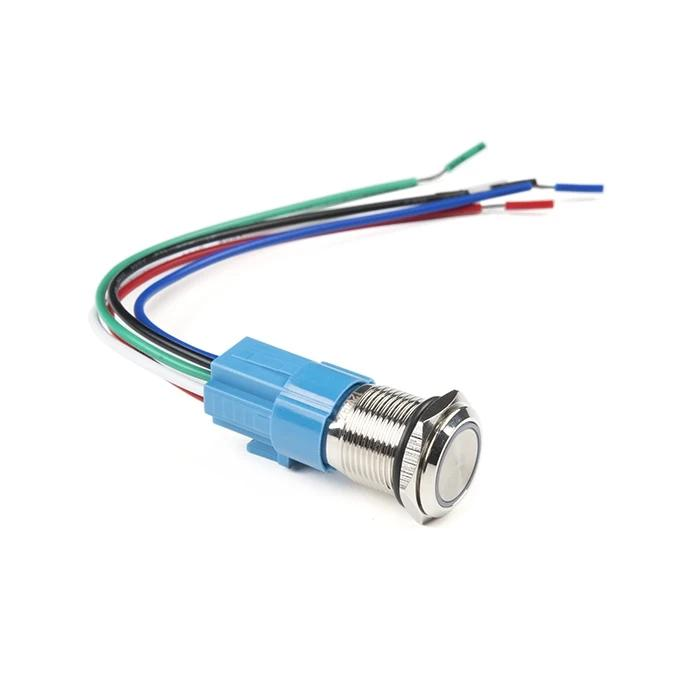pushbutton: (136, 311, 482, 531)
